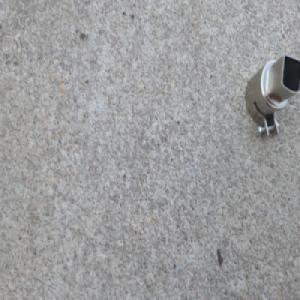MetalPart: (243, 52, 300, 143)
